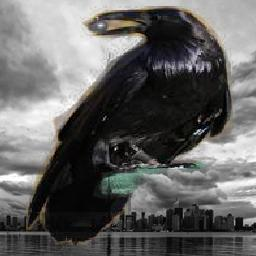Crow: (27, 7, 234, 246)
